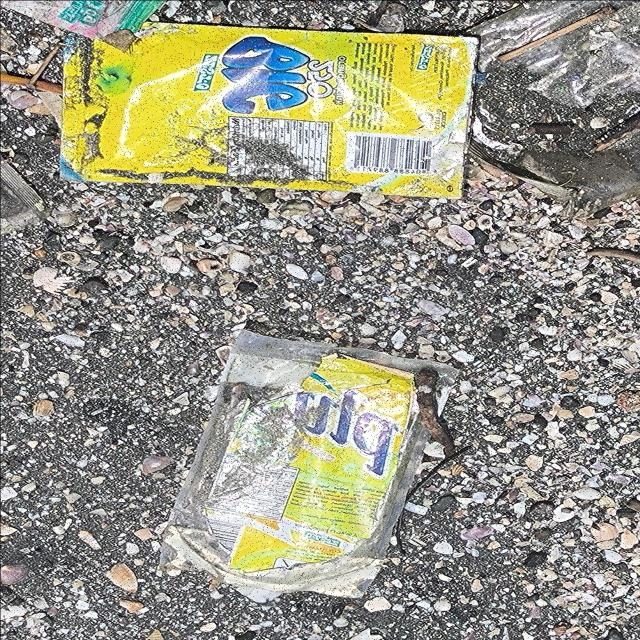plastic_waste: (156, 328, 464, 598), (61, 19, 481, 201)
